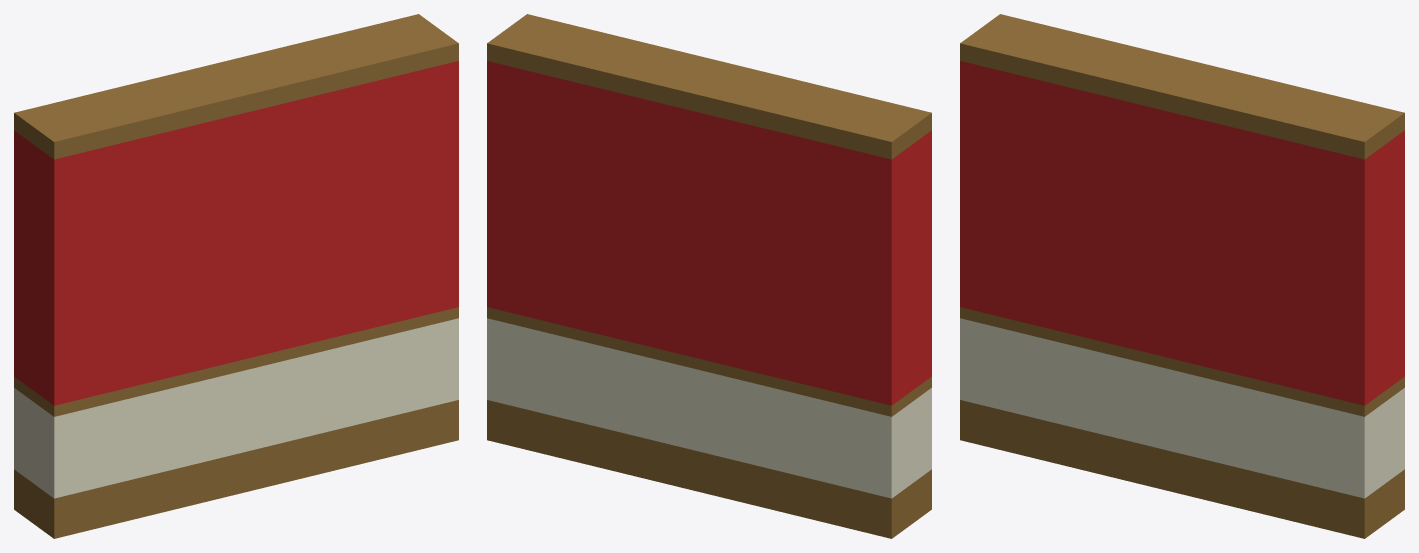
The model's file is Wall_02_Red.fbx.
3 renders of one model, left to right at view 1: azimuth 30°, elevation 25°; view 2: azimuth 150°, elevation 25°; view 3: azimuth 330°, elevation 25°, orthographic.
Visible parts, largest first — view 1: Wall_02_Yellow; view 2: Wall_02_Yellow; view 3: Wall_02_Yellow.
Part boxes in pixels (x1,y1,x2,y2): Wall_02_Yellow: [14, 14, 458, 538]; Wall_02_Yellow: [487, 14, 931, 538]; Wall_02_Yellow: [960, 14, 1404, 538].
Bounding box in the file's own units: 0.05 × 0.0469 × 0.00858.
Materials: 1 (1 with a texture image).
